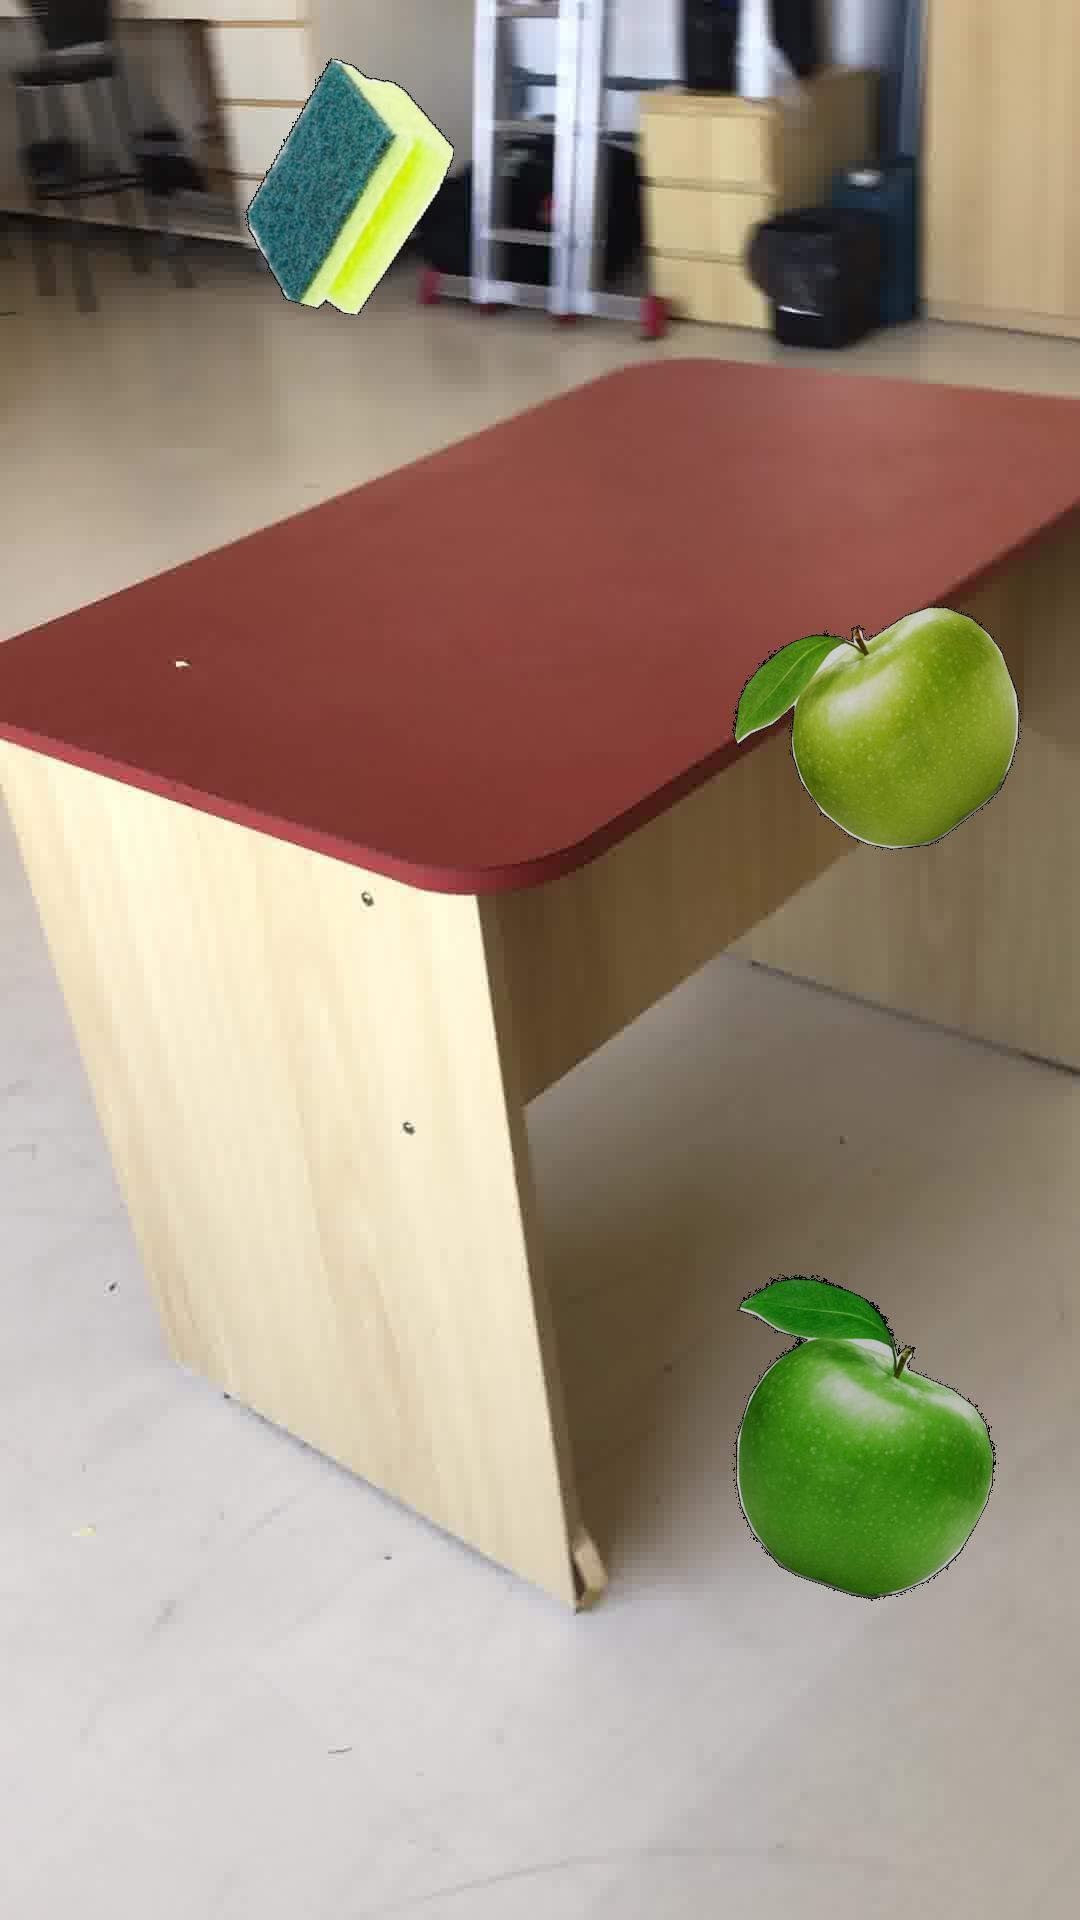green apple: (732, 1274, 994, 1600), (731, 605, 1018, 848)
sponge: (244, 57, 452, 314)
